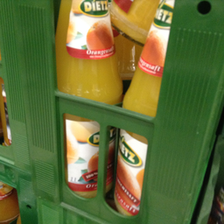juice: (54, 1, 122, 199), (115, 1, 175, 215)
